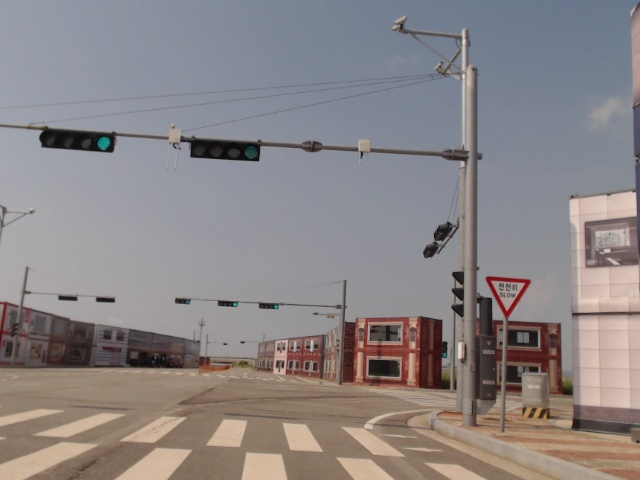straight_green_4: (189, 138, 260, 162), (40, 131, 114, 152), (259, 302, 281, 309), (218, 301, 237, 307)
